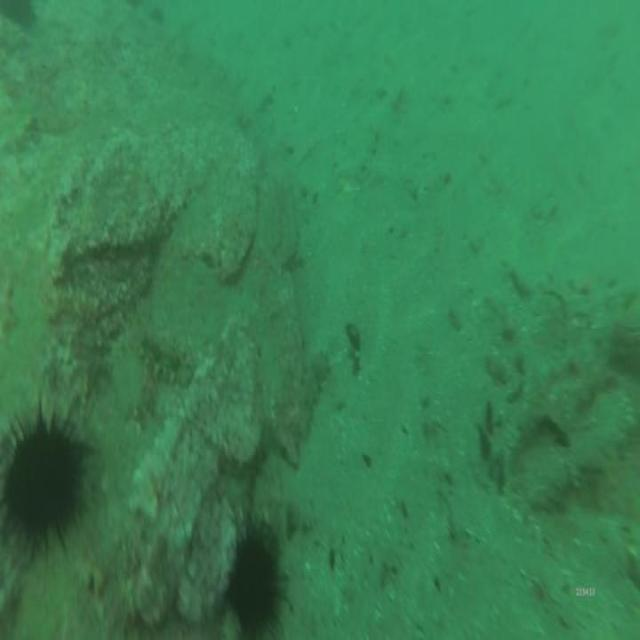echinus: (5, 423, 86, 538), (229, 528, 279, 637)
holothurian: (295, 351, 330, 438), (140, 336, 194, 386), (43, 283, 103, 325)
